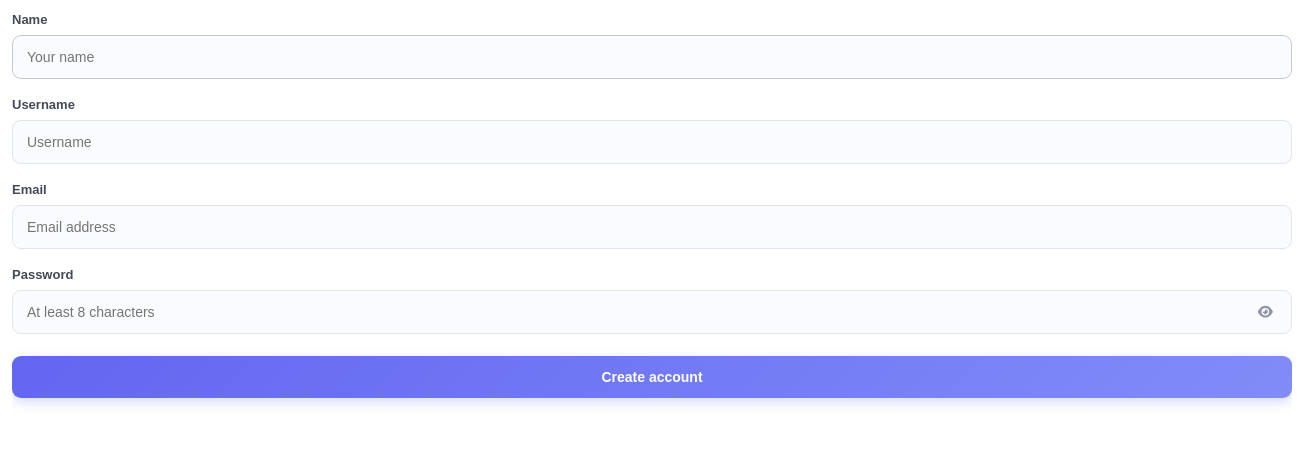
RegisterForm › shows a fallback when registration fails with a non-Error
Type "Alex Johnson" into the field with test id "register-name-input". click: (652, 57)
box: [12, 35, 1292, 79]
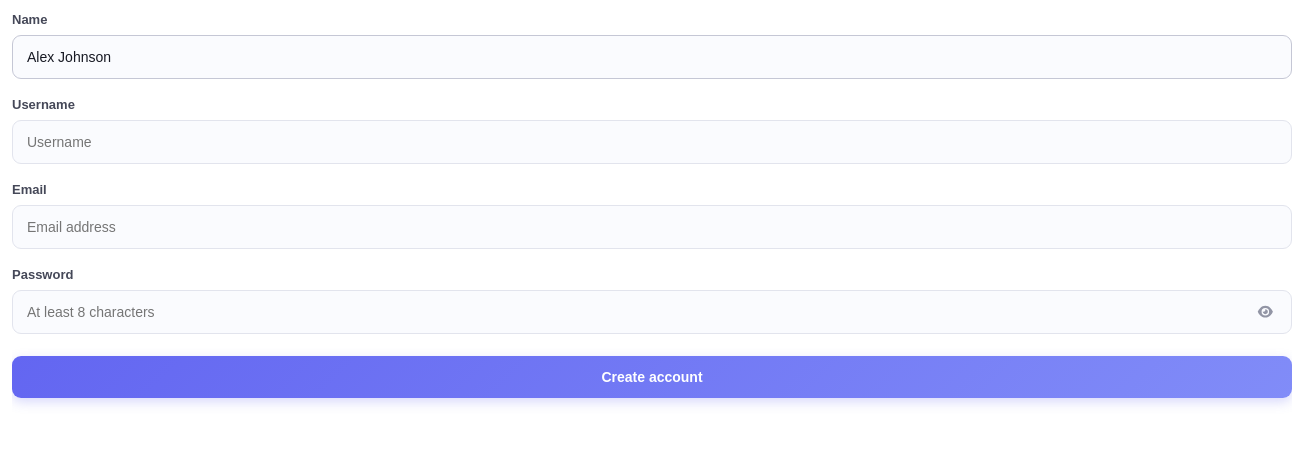
Type "alexj" into the field with test id "register-username-input". click: (652, 142)
box: [12, 120, 1292, 164]
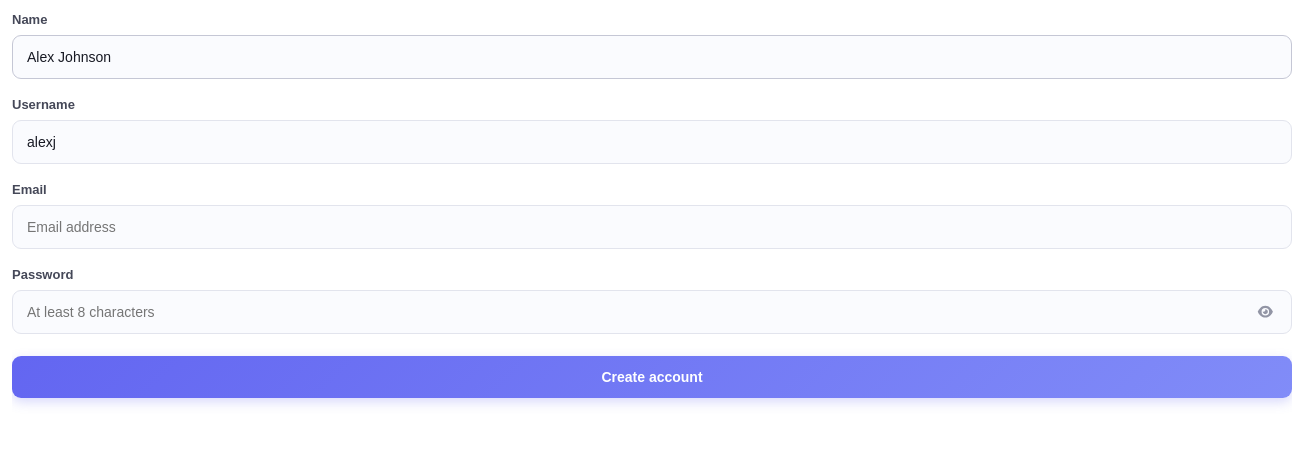
Type "alex@example.com" into the field with test id "register-email-input". click: (652, 227)
box: [12, 205, 1292, 249]
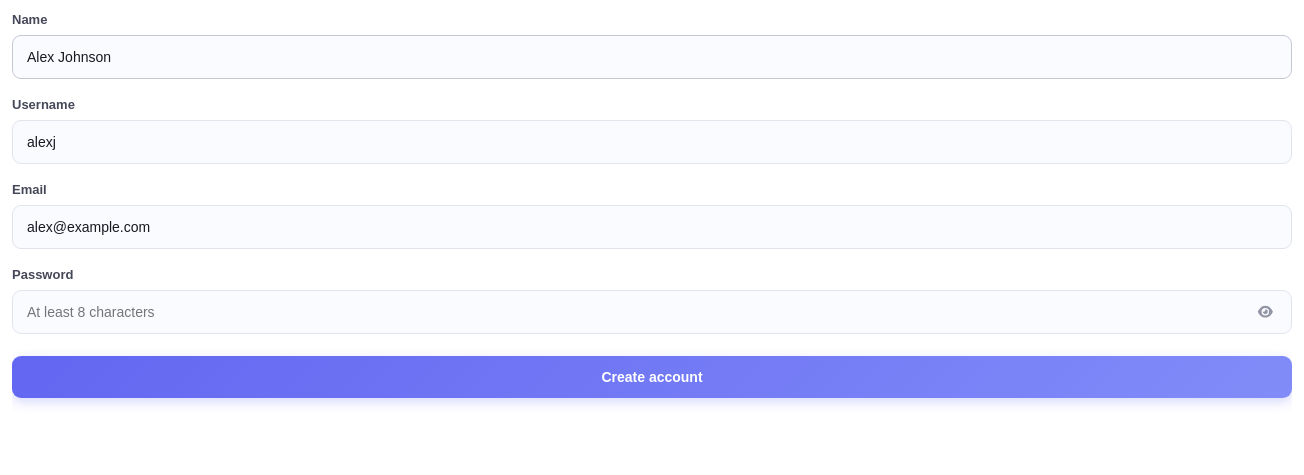
Type "password123" into the password field with test id "register-password-input". click: (652, 312)
box: [12, 290, 1292, 334]
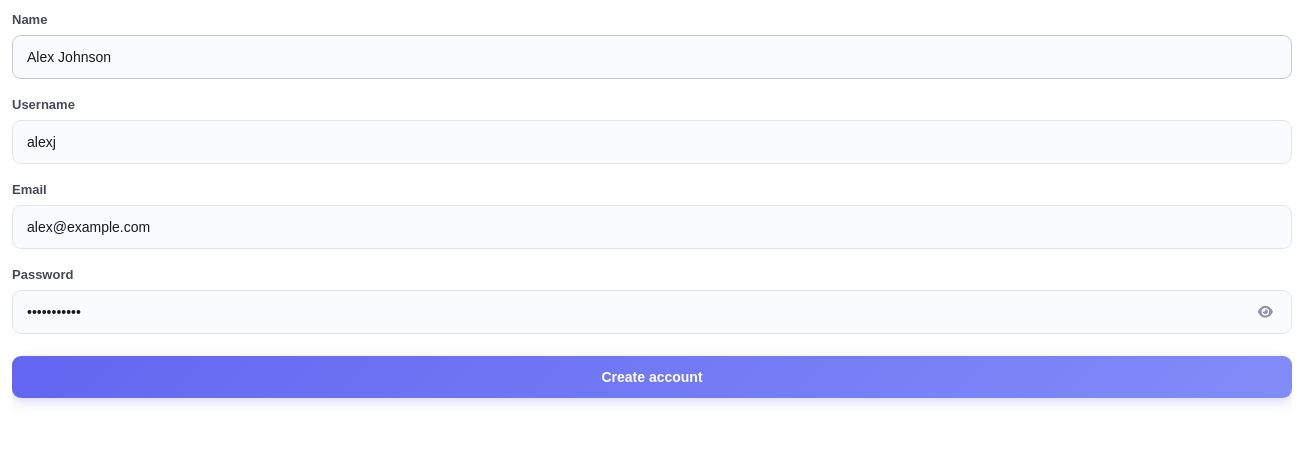
Click the button with test id "register-submit". click: (652, 377)
box: [12, 356, 1292, 398]
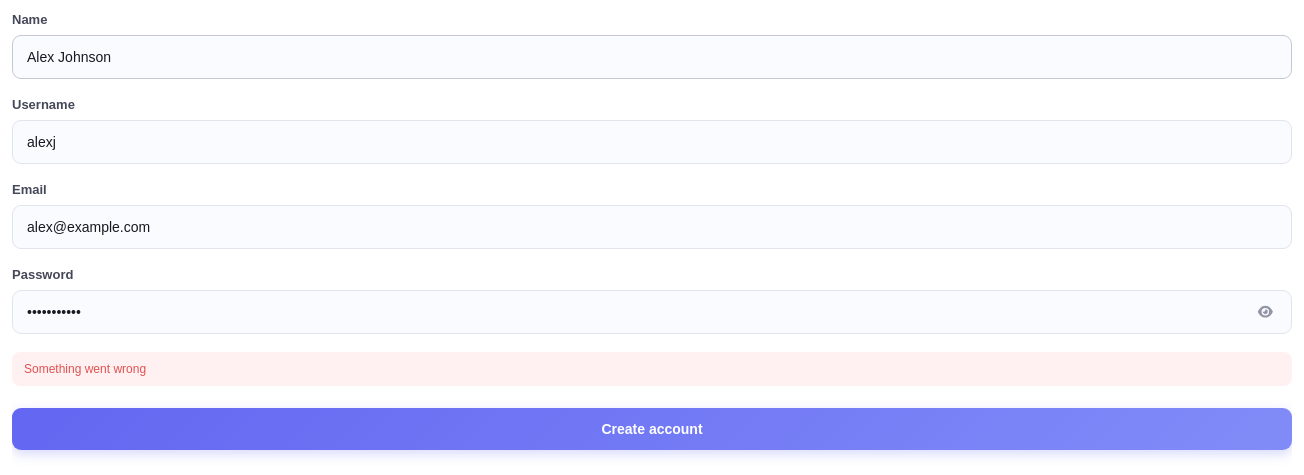
Expected: the text with test id "register-server-error" reads "Something went wrong", [24, 362, 146, 376]
